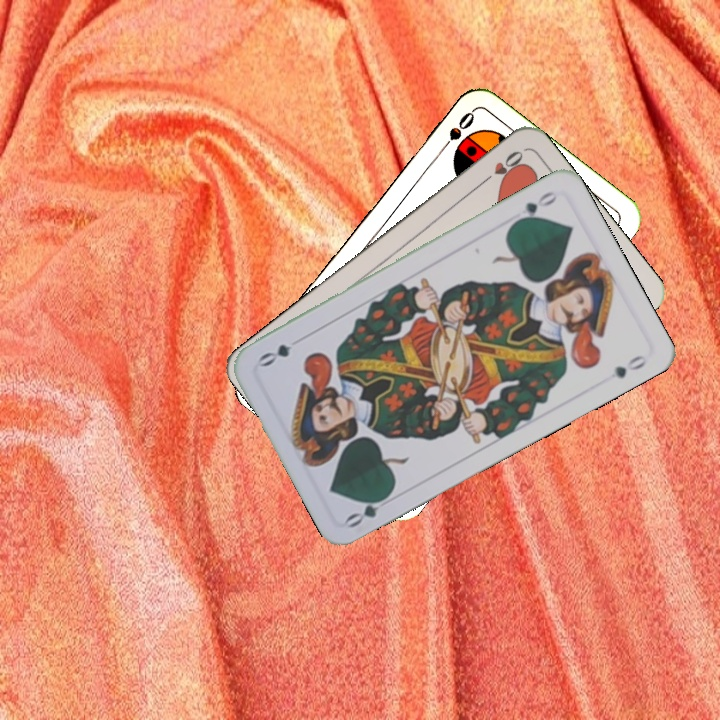GO: (342, 488, 397, 531), (509, 187, 561, 227)
HO: (476, 146, 527, 188)
SO: (434, 107, 478, 158)
